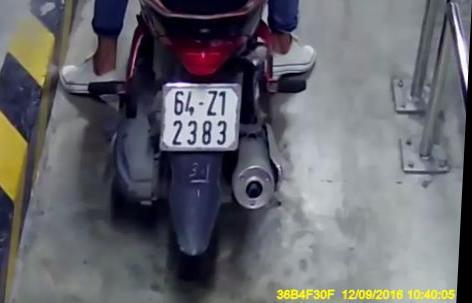License_Plate: (155, 80, 243, 161)
